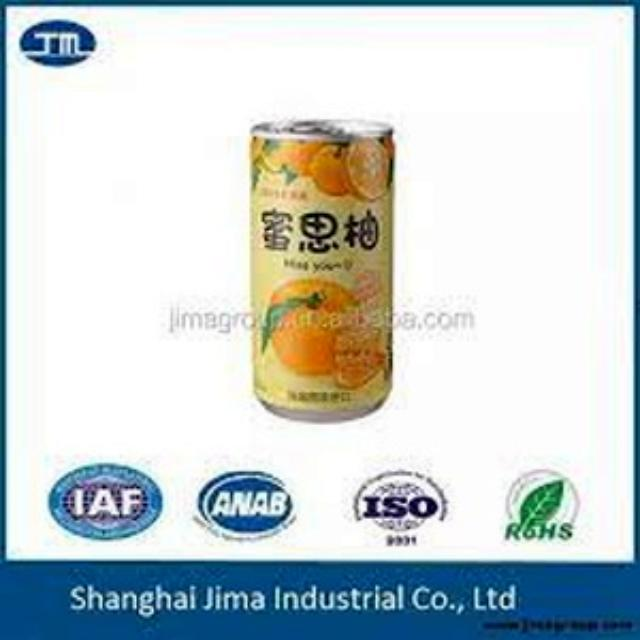Metal: (246, 118, 398, 424)
